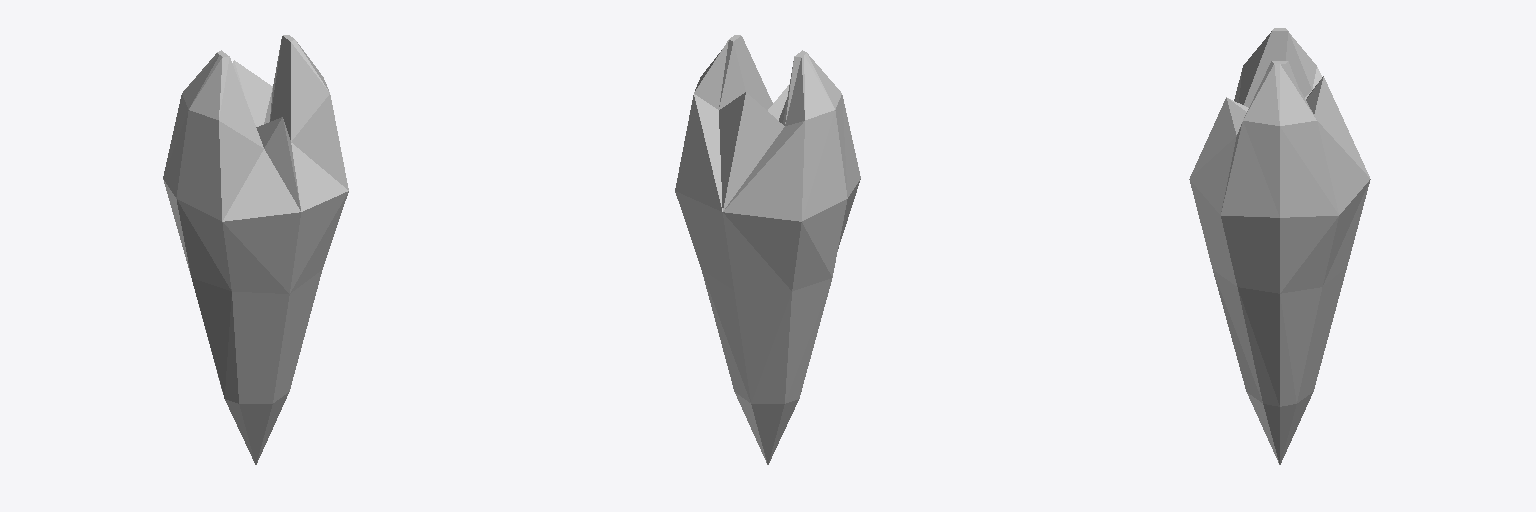
The model's file is flame.obj.
3 views of the same model, side by side, from view 1: azimuth 30°, elevation 25°; view 2: azimuth 150°, elevation 25°; view 3: azimuth 270°, elevation 25° (orthographic).
Visible parts, largest first — view 1: Flame; view 2: Flame; view 3: Flame.
Boxes of the visible parts, box(x1,y1,x2,y2) form: Flame: box(163, 35, 348, 464); Flame: box(675, 35, 860, 464); Flame: box(1189, 28, 1370, 464).
Size of the model in its own units: 2.03 by 5.11 by 2.